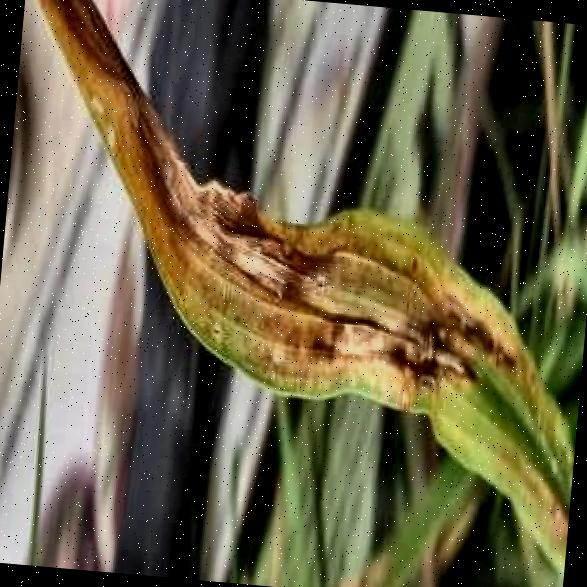Leaf_smut: (234, 200, 574, 558)
